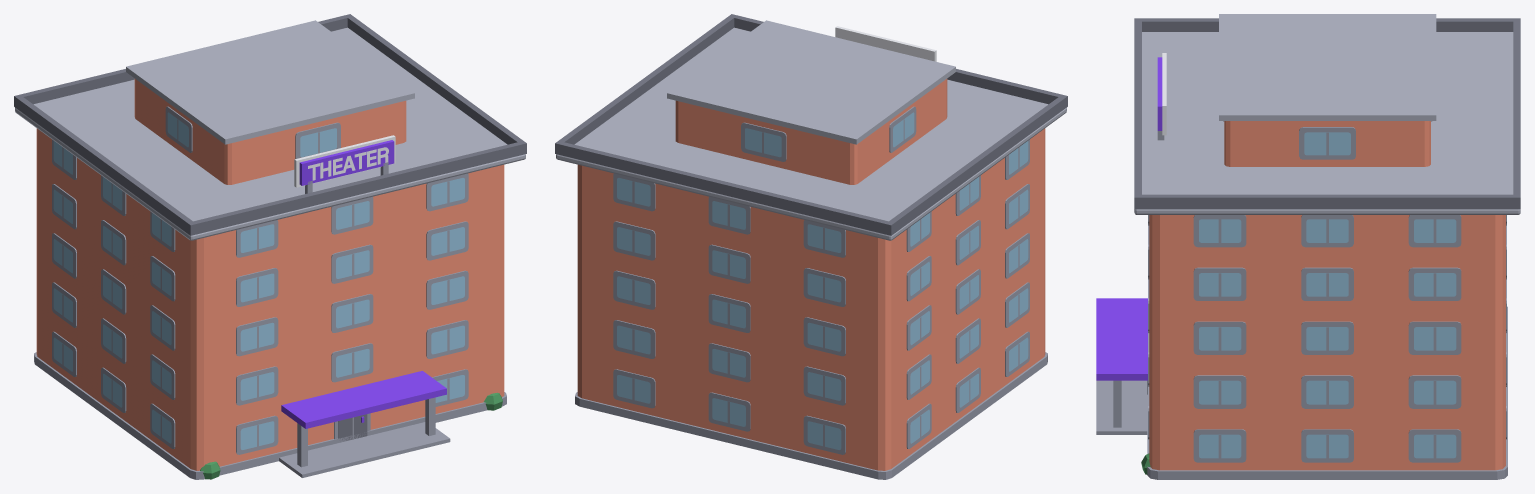
File: theater-2x2-5f.glb
3 renders of one model, left to right at view 1: azimuth 30°, elevation 25°; view 2: azimuth 150°, elevation 25°; view 3: azimuth 270°, elevation 25°, orthographic. The views are drawn at different scales.
Parts seen in each view (by area): view 1: theater-2x2-5f; view 2: theater-2x2-5f; view 3: theater-2x2-5f.
Boxes of the visible parts, left/top/right/bottom form: theater-2x2-5f: left=14, top=14, right=526, bottom=479; theater-2x2-5f: left=555, top=14, right=1067, bottom=479; theater-2x2-5f: left=1096, top=14, right=1520, bottom=479.
Bounding box in the file's own units: 2 × 1.72 × 2.
Materials: 1 (1 with a texture image).
